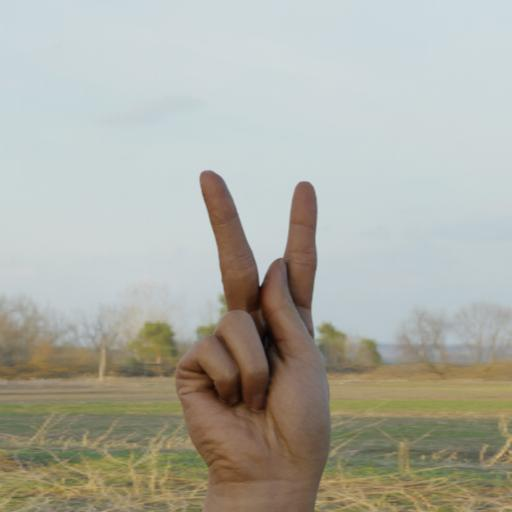K: (130, 132, 398, 512)
